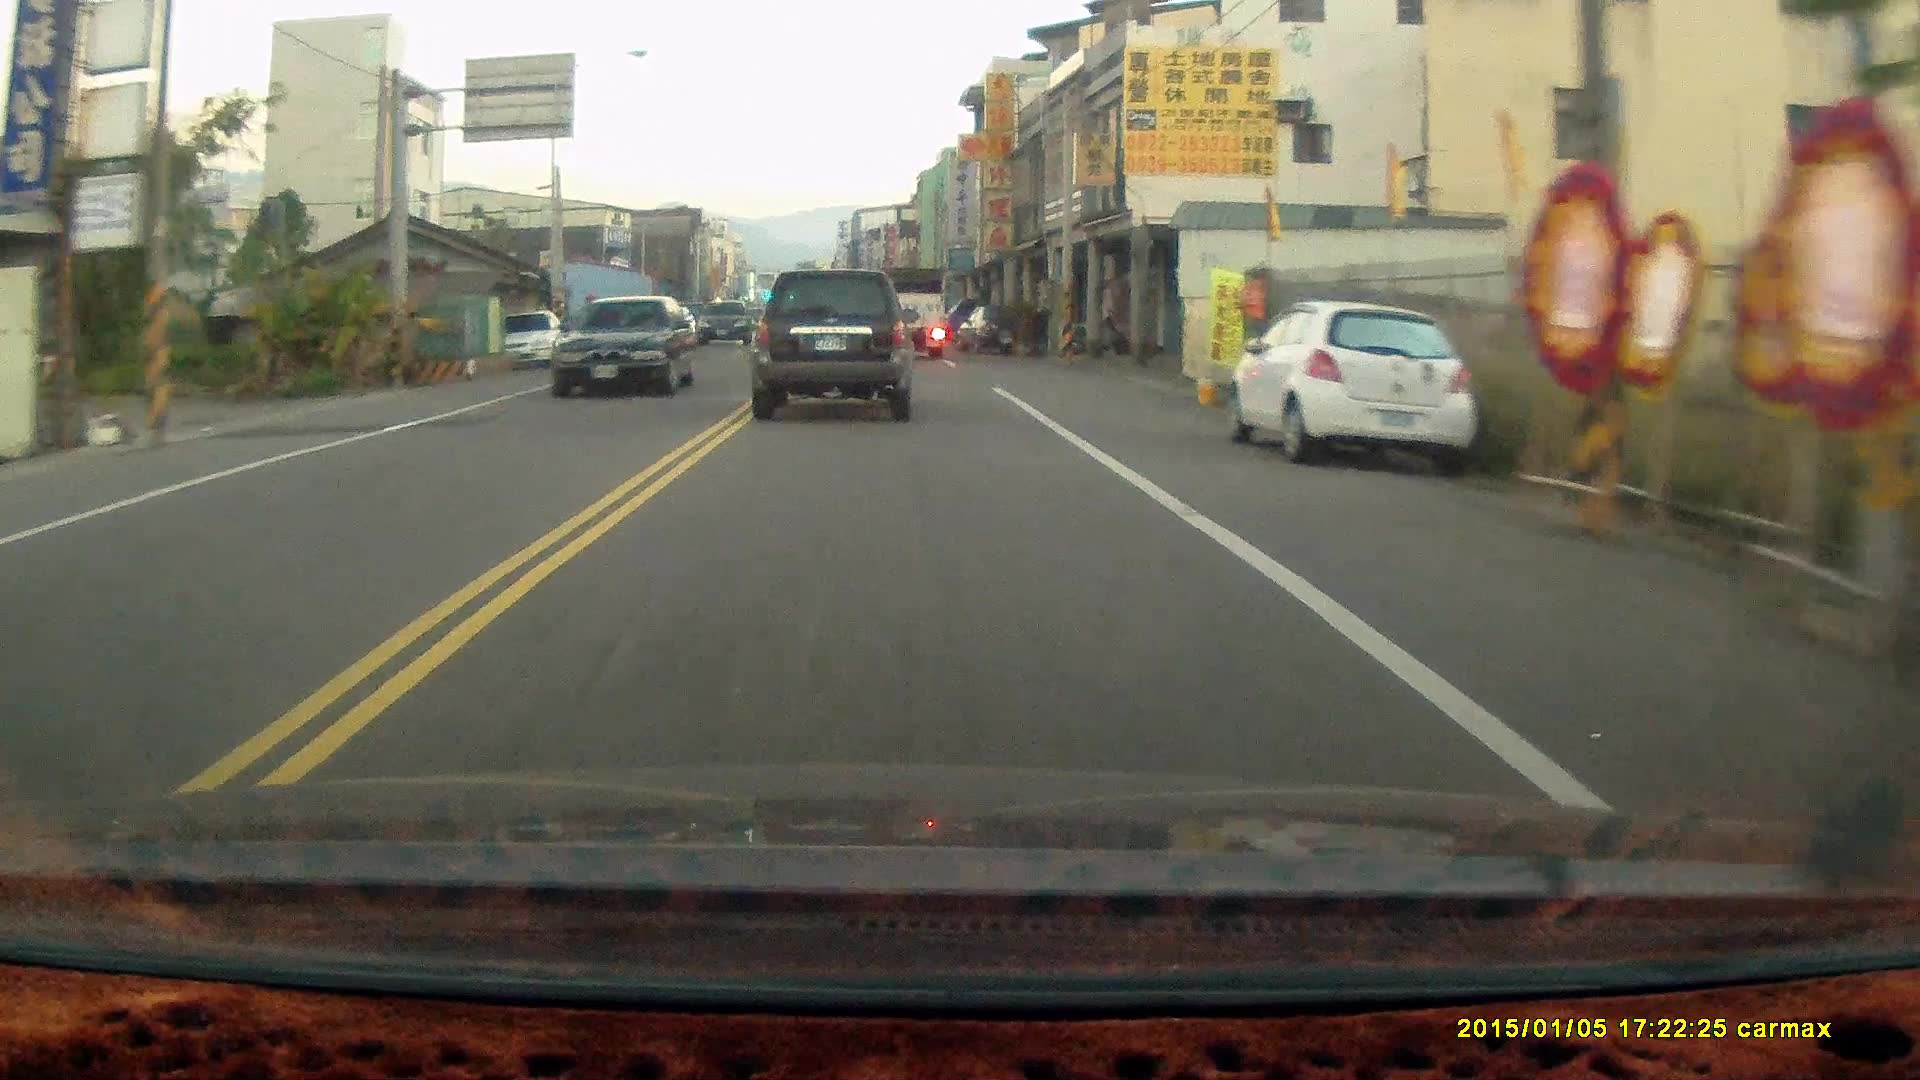vehicle: (1233, 301, 1476, 479), (746, 269, 918, 425), (553, 293, 705, 401), (876, 262, 952, 359), (487, 310, 570, 369)
